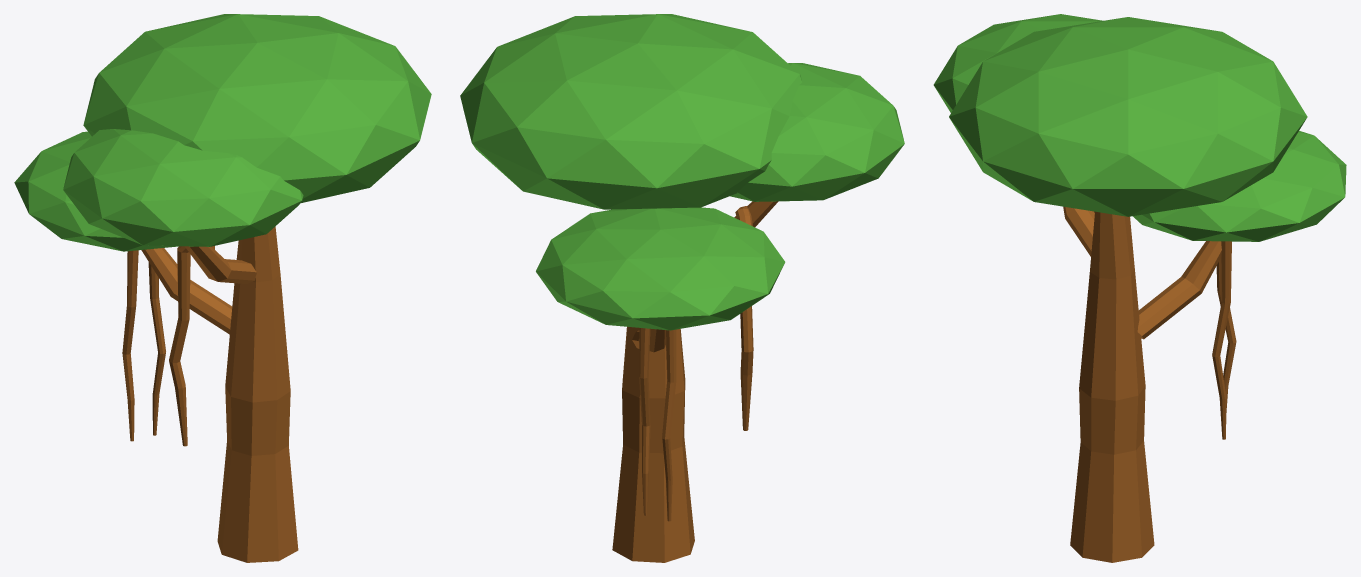
File: ENVI_LV2-3_pohon_Tinggi_003.fbx
3 renders of one model, left to right at view 1: azimuth 30°, elevation 25°; view 2: azimuth 150°, elevation 25°; view 3: azimuth 270°, elevation 25°, orthographic. The views are drawn at different scales.
Parts seen in each view (by area): view 1: pohon Tinggi.003; view 2: pohon Tinggi.003; view 3: pohon Tinggi.003.
Part boxes in pixels (box(x1,y1,x2,y2)): pohon Tinggi.003: box(14, 14, 431, 562); pohon Tinggi.003: box(460, 14, 904, 562); pohon Tinggi.003: box(933, 14, 1346, 562).
Size of the model in its own units: 569 by 759 by 569.
